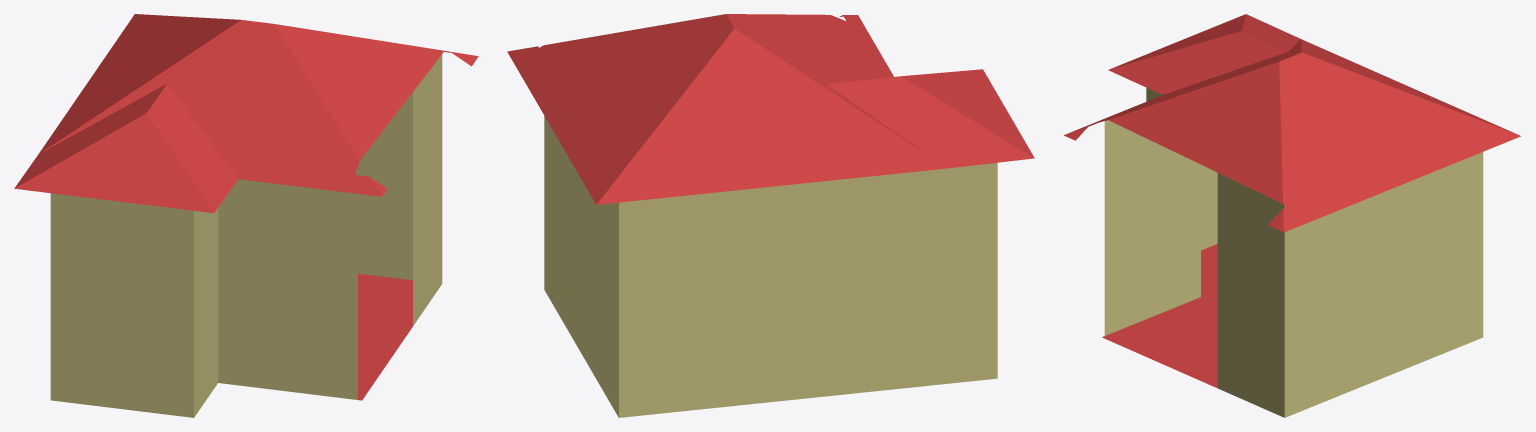
The picture shows the model from 3 angles, left to right: view 1: azimuth 30°, elevation 25°; view 2: azimuth 150°, elevation 25°; view 3: azimuth 270°, elevation 25°; orthographic projection. The views are drawn at different scales.
Visible parts, largest first — view 1: group_5, group_3, group_10, group_7, group_6, group_9, group_4; view 2: group_5, group_3, group_10, group_7, group_4, group_9; view 3: group_5, group_3, group_7, group_6, group_4, group_10, group_9, group_11.
Part boxes in pixels (x1,y1,x2,y2): group_5: (210,54,442,399); group_3: (39,14,478,196); group_10: (50,193,209,417); group_7: (14,84,237,213); group_6: (358,273,412,400); group_9: (16,135,237,212); group_4: (52,52,476,195); group_5: (544,116,939,417); group_3: (507,14,946,204); group_10: (940,162,997,384); group_7: (827,69,1034,168); group_4: (511,15,935,202); group_9: (915,70,1031,168); group_5: (1104,120,1483,417); group_3: (1064,39,1521,232); group_7: (1108,14,1297,94); group_6: (1102,274,1217,388); group_4: (1064,90,1516,231); group_10: (1146,30,1291,250); group_9: (1112,15,1300,94); group_11: (1201,244,1217,280).
Size of the model in its own units: 19 by 16.9 by 11.37.
